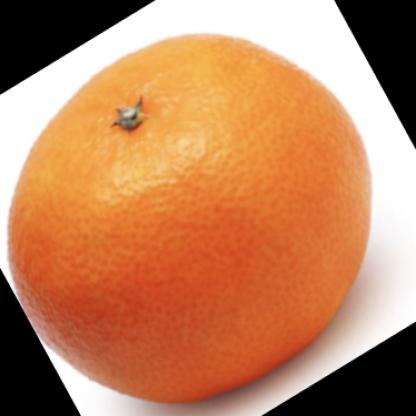orange: (2, 32, 375, 411)
